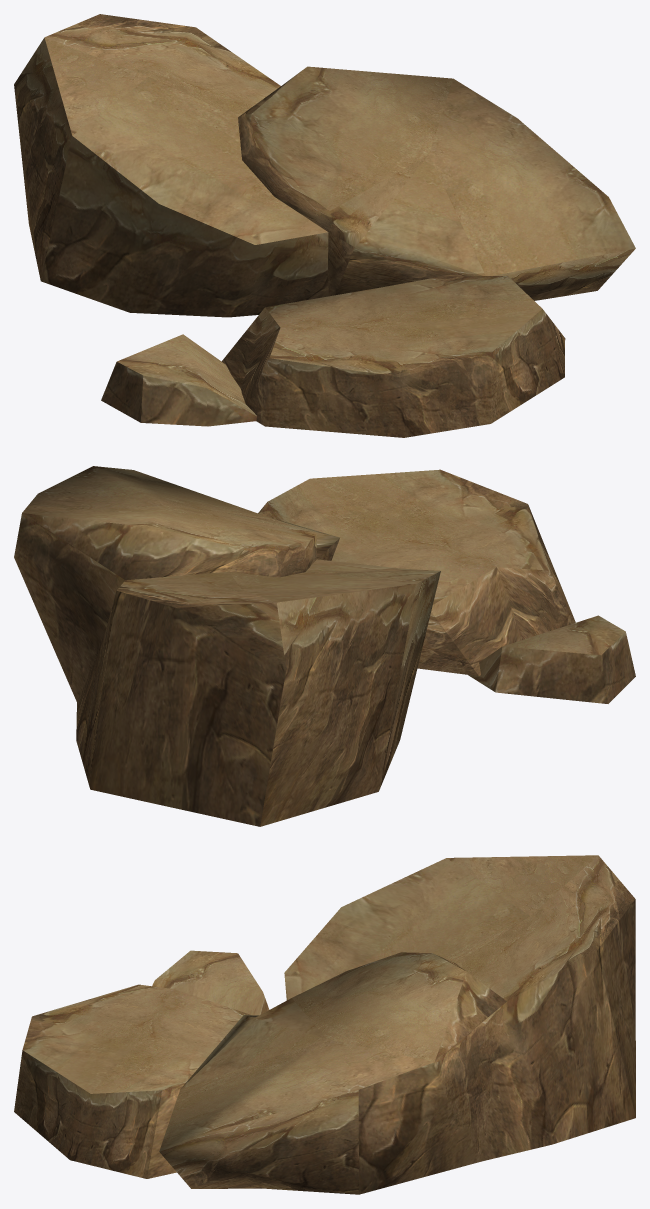
File: yw_huxiaoshamo_shitou02.FBX
3 renders of one model, top to bottom at view 1: azimuth 30°, elevation 25°; view 2: azimuth 150°, elevation 25°; view 3: azimuth 270°, elevation 25°, orthographic. The views are drawn at different scales.
Parts seen in each view (by area): view 1: yw_huxiaoshamo_shitou02; view 2: yw_huxiaoshamo_shitou02; view 3: yw_huxiaoshamo_shitou02.
Part boxes in pixels (<box>): yw_huxiaoshamo_shitou02: <box>14,14,635,437</box>; yw_huxiaoshamo_shitou02: <box>14,466,635,826</box>; yw_huxiaoshamo_shitou02: <box>14,855,635,1194</box>.
Bounding box in the file's own units: 925 × 351 × 1041.
